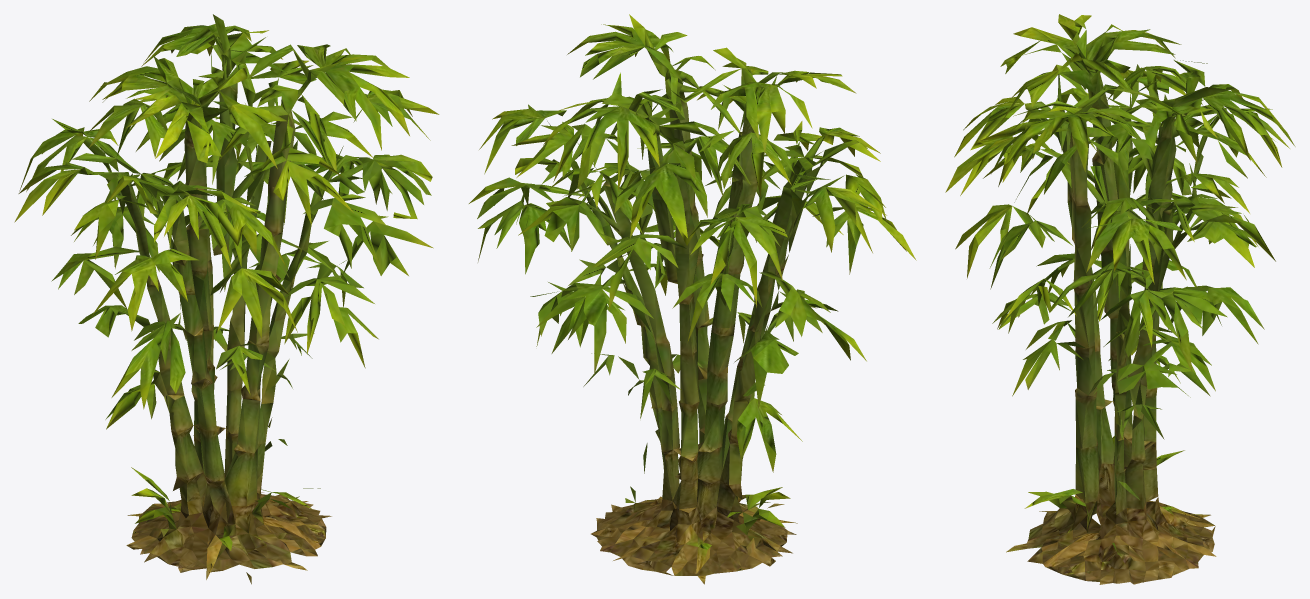
Rendered from wewe-bambu.glb.
3 views of the same model, side by side, from view 1: azimuth 30°, elevation 25°; view 2: azimuth 150°, elevation 25°; view 3: azimuth 270°, elevation 25° (orthographic).
Visible parts, largest first — view 1: wewe-bambu; view 2: wewe-bambu; view 3: wewe-bambu.
Boxes of the visible parts, x1,y1,x2,y2 form: wewe-bambu: [14, 14, 439, 584]; wewe-bambu: [469, 14, 916, 584]; wewe-bambu: [945, 14, 1295, 584].
Bounding box in the file's own units: 0.8708 × 0.9799 × 0.6425.
1 material, 1 textured.
